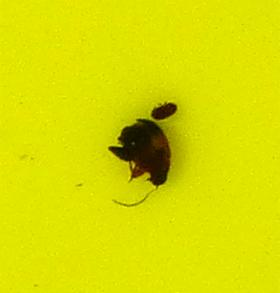Coleoptera: (100, 117, 172, 193), (146, 100, 180, 121)
